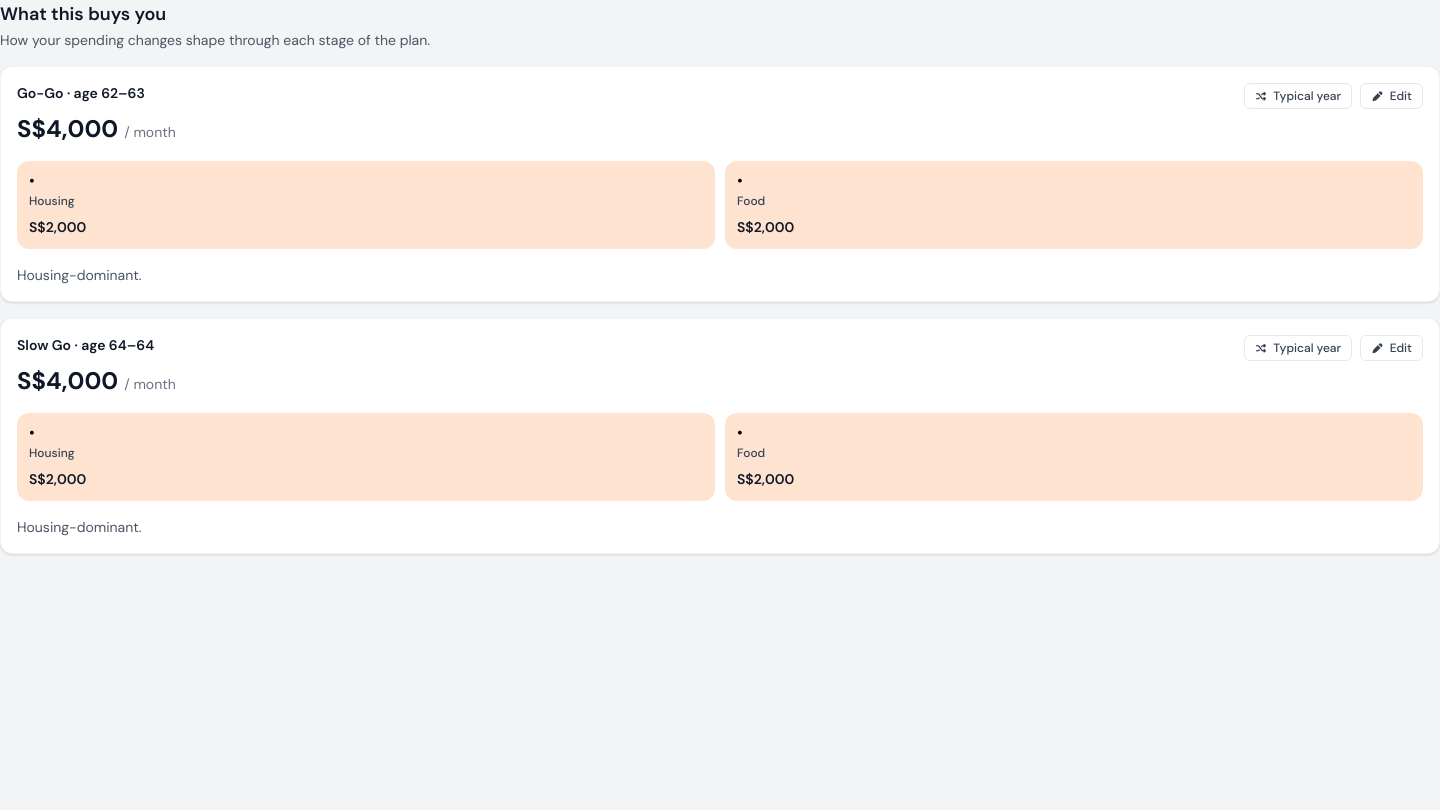
Test case: PhaseSpendList typical year › should show a stage's average year across its own years only, split by category
Click the button with aria-label "typical Go-Go year" at (1298, 96), box [1244,83,1352,109]
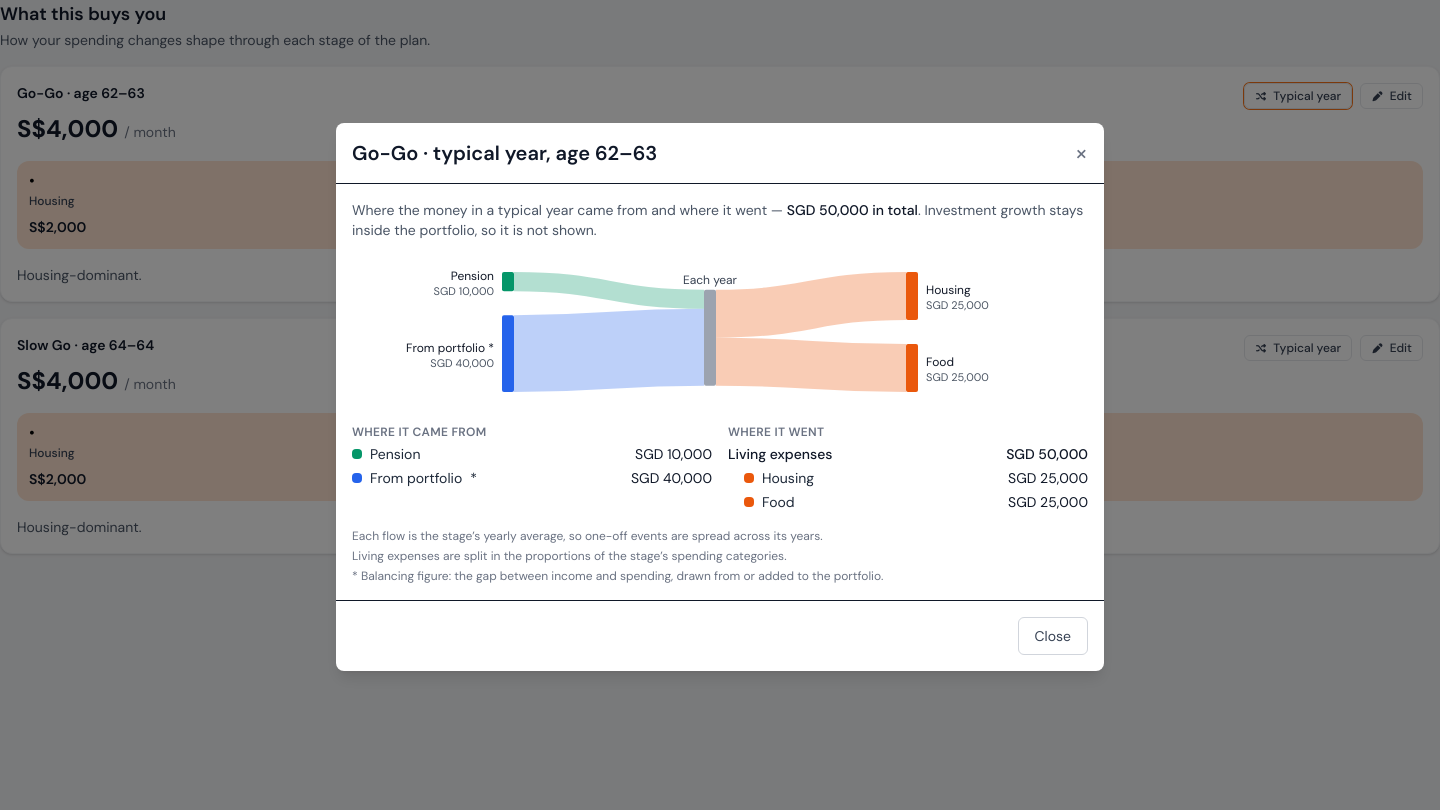
Expected: the heading "Go-Go · typical year, age 62–63" is shown, [352,139,657,167]
Expected: the list items read "Living expensesSGD 50,000", "HousingSGD 25,000", "FoodSGD 25,000", in this order, [728,444,1088,464]; [728,468,1088,488]; [728,492,1088,512]
